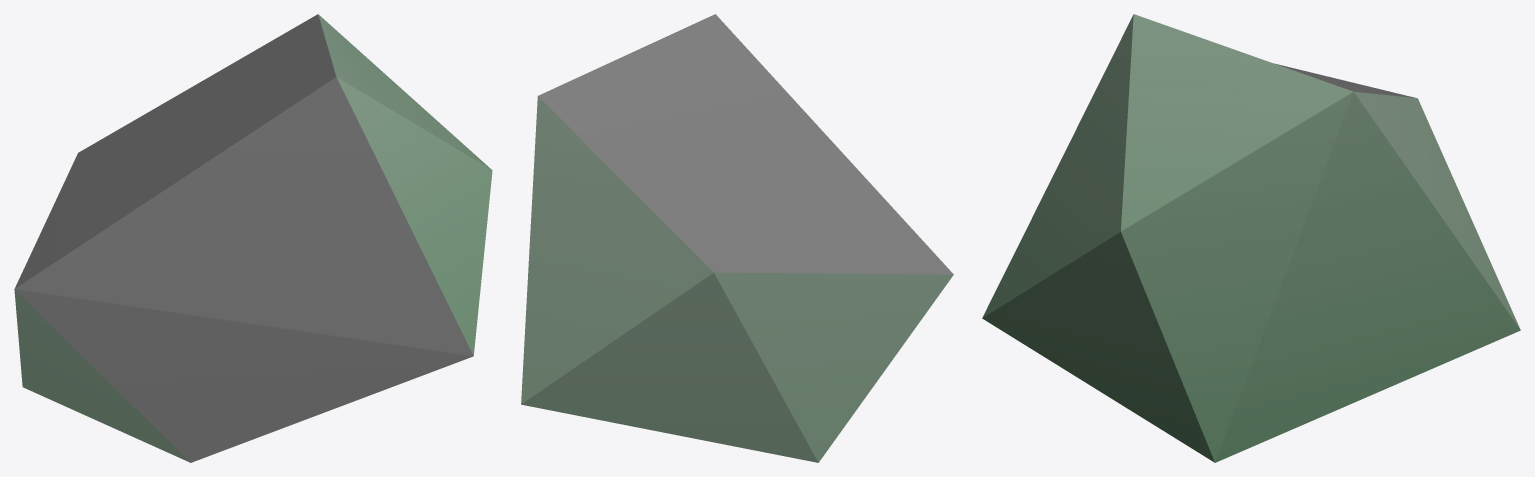
Rendered from Rock_Tiny_01_Mossy.fbx.
3 views of the same model, side by side, from view 1: azimuth 30°, elevation 25°; view 2: azimuth 150°, elevation 25°; view 3: azimuth 270°, elevation 25° (orthographic). The views are drawn at different scales.
Visible parts, largest first — view 1: Rock_Tiny_Mossy; view 2: Rock_Tiny_Mossy; view 3: Rock_Tiny_Mossy.
Boxes of the visible parts, box(x1,y1,x2,y2) form: Rock_Tiny_Mossy: box(14, 14, 492, 462); Rock_Tiny_Mossy: box(521, 14, 953, 462); Rock_Tiny_Mossy: box(982, 14, 1520, 462).
Bounding box in the file's own units: 0.185 × 0.135 × 0.18.
